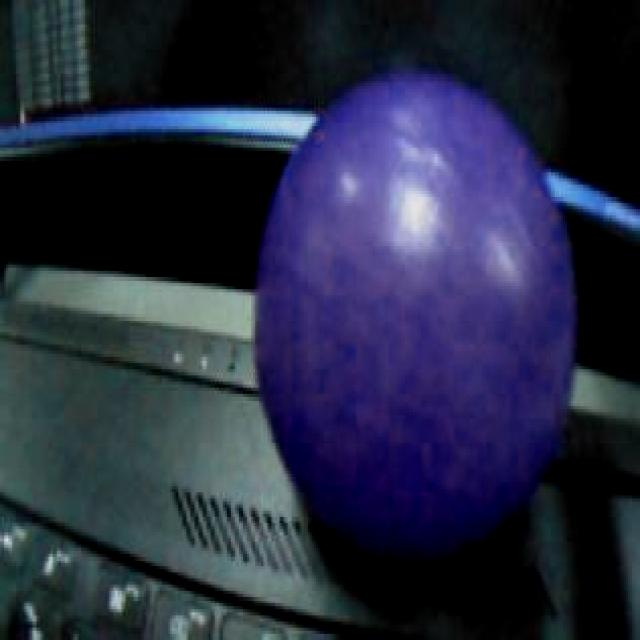BallPurple: (255, 66, 576, 577)
